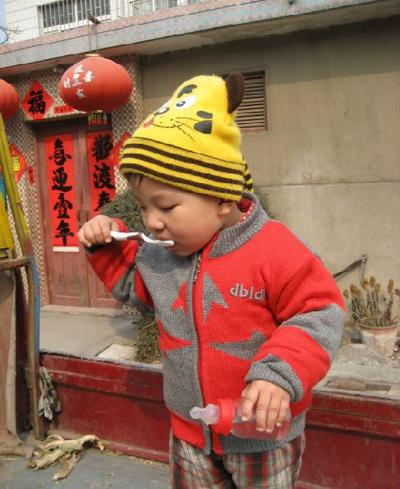person: (78, 76, 346, 489)
